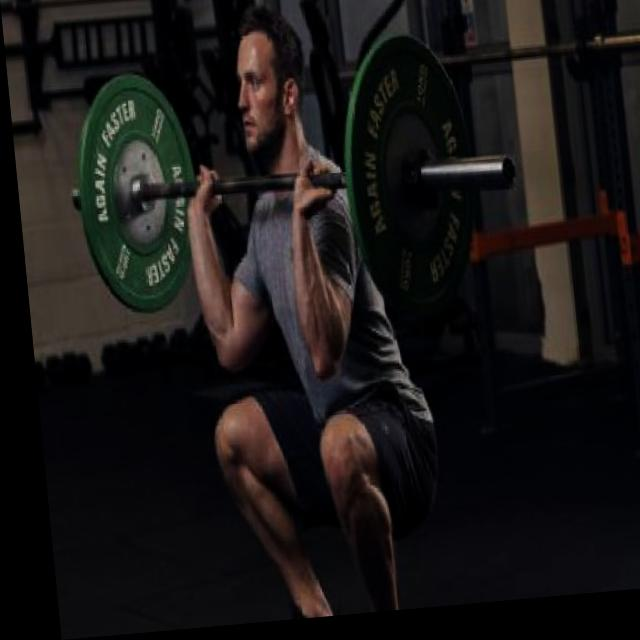barbell: (330, 37, 522, 322)
